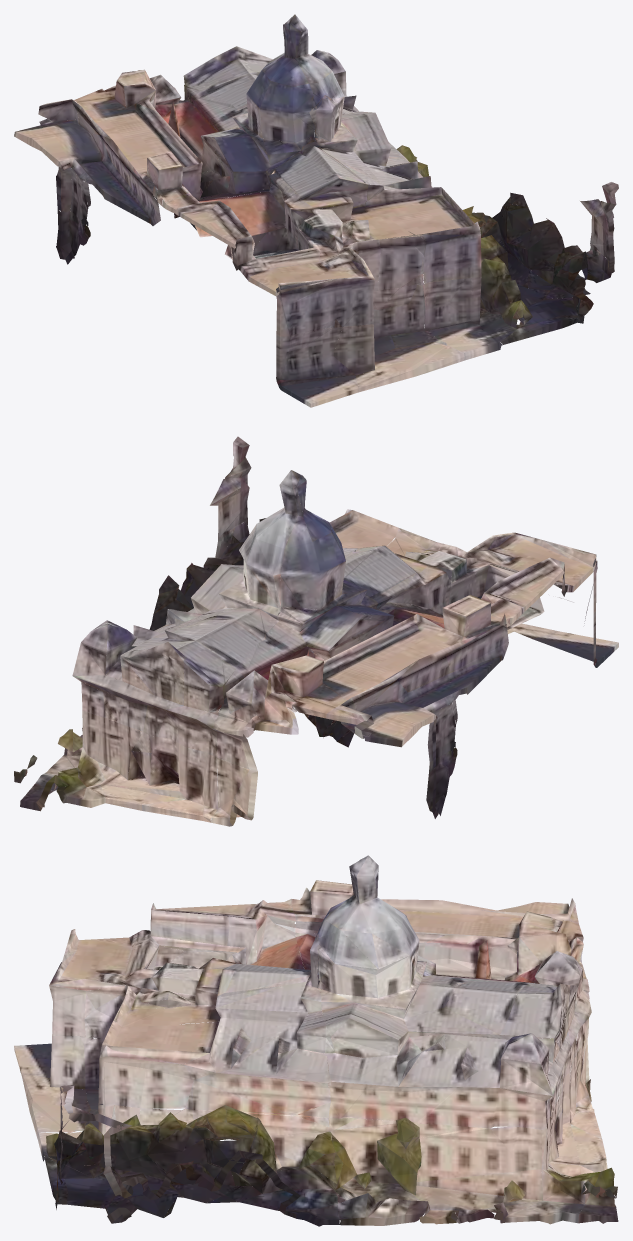
3 views of the same model, one above another, from view 1: azimuth 30°, elevation 25°; view 2: azimuth 150°, elevation 25°; view 3: azimuth 270°, elevation 25° (orthographic). The views are drawn at different scales.
Visible parts, largest first — view 1: Mesh_0; view 2: Mesh_0; view 3: Mesh_0.
Part boxes in pixels (x1,y1,x2,y2): Mesh_0: (14,14,618,407); Mesh_0: (14,436,618,826); Mesh_0: (14,855,618,1226).
Bounding box in the file's own units: 66.88 × 44.12 × 82.58.
Materials: 2 (2 with a texture image).
